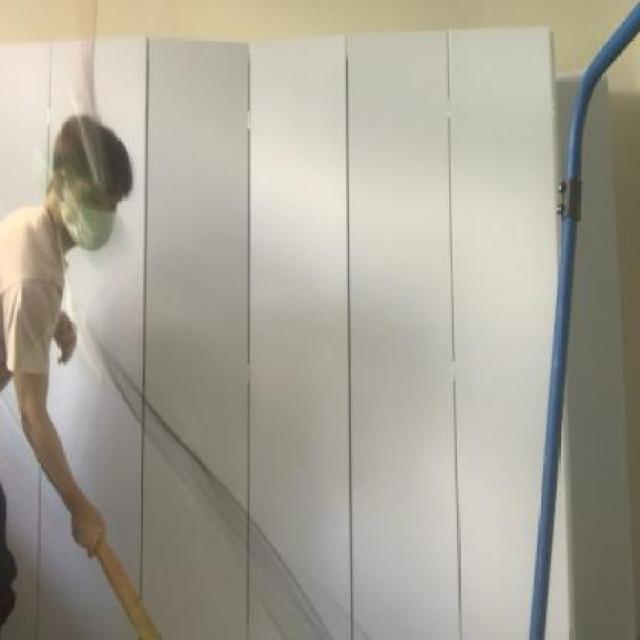baseball: (40, 158, 135, 302)
